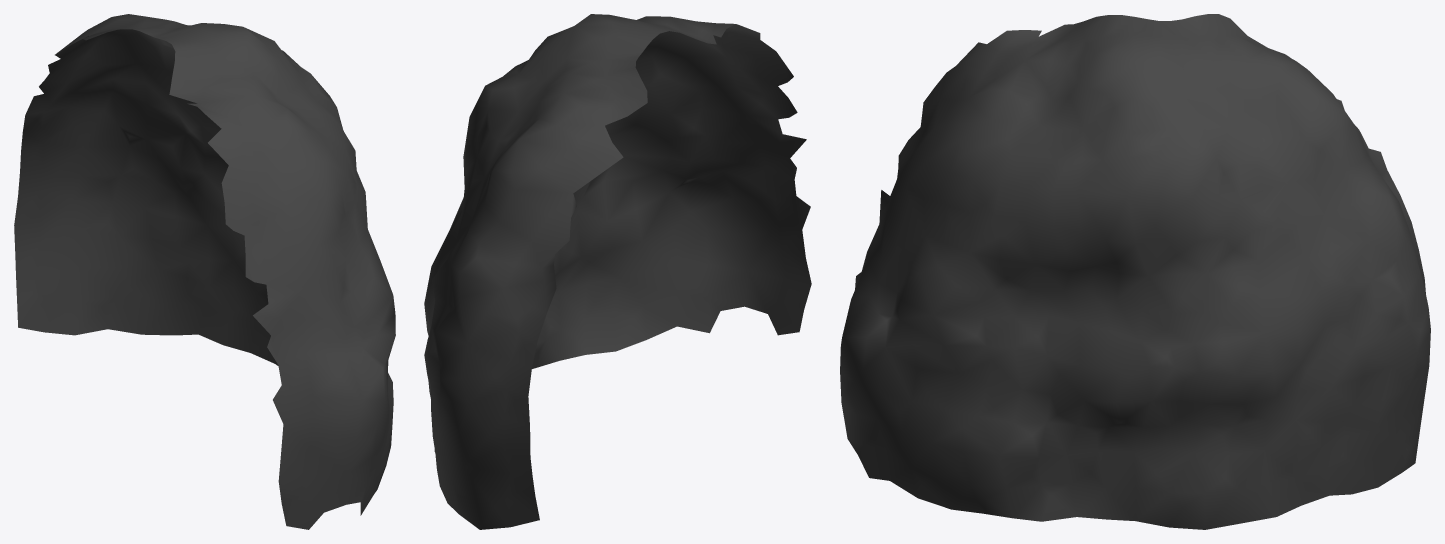
Rendered from rocks.obj.
The picture shows the model from 3 angles, left to right: view 1: azimuth 30°, elevation 25°; view 2: azimuth 150°, elevation 25°; view 3: azimuth 270°, elevation 25°; orthographic projection. The views are drawn at different scales.
Visible parts, largest first — view 1: stone_Grid; view 2: stone_Grid; view 3: stone_Grid.
Boxes of the visible parts, x1,y1,x2,y2 form: stone_Grid: [14, 14, 395, 529]; stone_Grid: [424, 14, 811, 529]; stone_Grid: [840, 14, 1430, 529].
Size of the model in its own units: 35.87 by 62.73 by 78.1.
